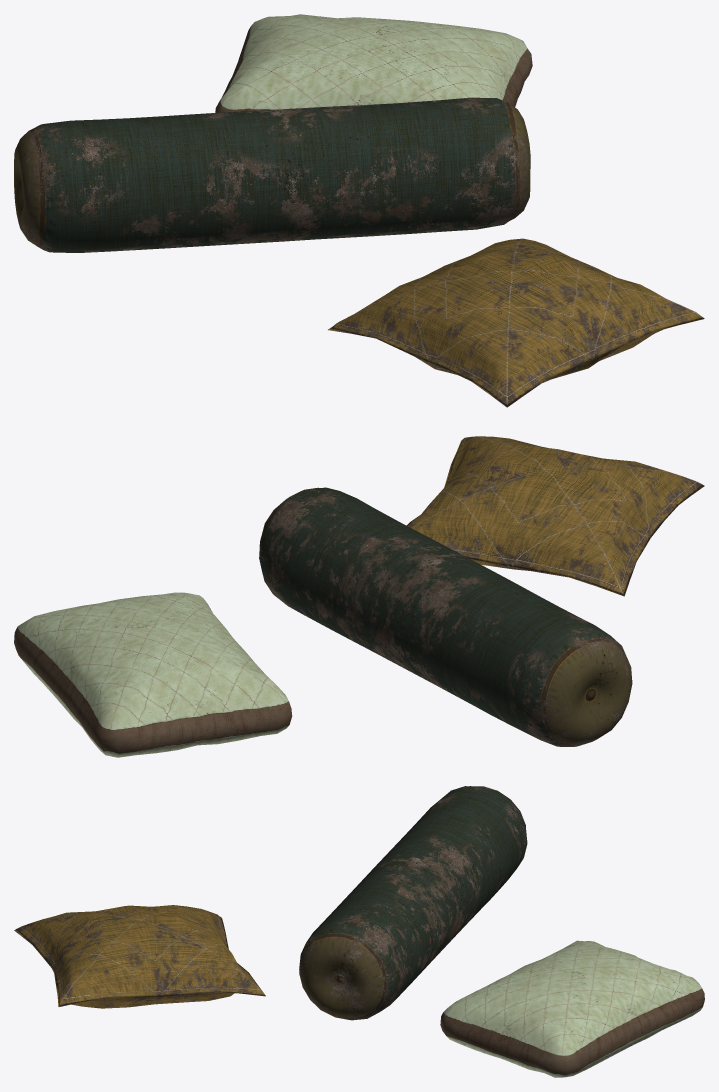
Rendered from post-apocalypse_pillow_pack.glb.
The picture shows the model from 3 angles, top to bottom: view 1: azimuth 30°, elevation 25°; view 2: azimuth 150°, elevation 25°; view 3: azimuth 270°, elevation 25°; orthographic projection. The views are drawn at different scales.
Visible parts, largest first — view 1: Circle, Pillow-2, Pillow-1; view 2: Circle, Pillow-1, Pillow-2; view 3: Circle, Pillow-1, Pillow-2.
Boxes of the visible parts, x1=… form: Circle: x1=14, y1=97, x2=530, y2=252; Pillow-2: x1=328, y1=238, x2=704, y2=407; Pillow-1: x1=215, y1=14, x2=532, y2=112; Circle: x1=259, y1=487, x2=632, y2=746; Pillow-1: x1=14, y1=592, x2=292, y2=757; Pillow-2: x1=407, y1=436, x2=704, y2=596; Circle: x1=299, y1=786, x2=527, y2=1020; Pillow-1: x1=440, y1=940, x2=704, y2=1077; Pillow-2: x1=14, y1=905, x2=265, y2=1008.
Size of the model in its own units: 11.92 by 2.4 by 15.88.
Materials: 3 (3 with a texture image).
